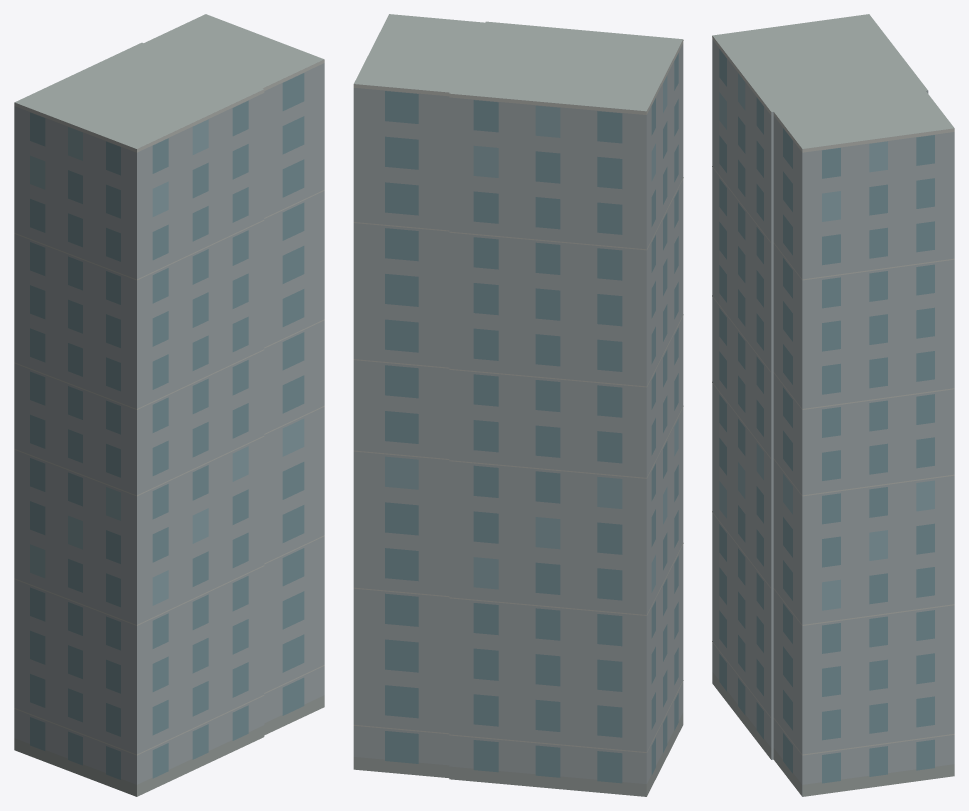
File: survey-upis-32777306.glb
The picture shows the model from 3 angles, left to right: view 1: azimuth 30°, elevation 25°; view 2: azimuth 150°, elevation 25°; view 3: azimuth 270°, elevation 25°; orthographic projection. The views are drawn at different scales.
Parts seen in each view (by area): view 1: survey-upis-32777306.tmp; view 2: survey-upis-32777306.tmp; view 3: survey-upis-32777306.tmp.
Part boxes in pixels (x1,y1,x2,y2): survey-upis-32777306.tmp: (14,14,324,796); survey-upis-32777306.tmp: (353,14,683,796); survey-upis-32777306.tmp: (712,14,954,796).
Size of the model in its own units: 19.49 by 43.55 by 14.8.
